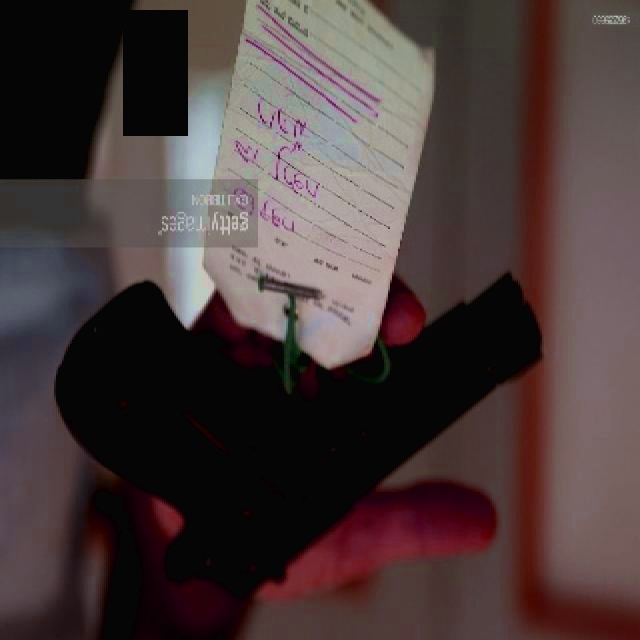gun: (52, 268, 547, 607)
